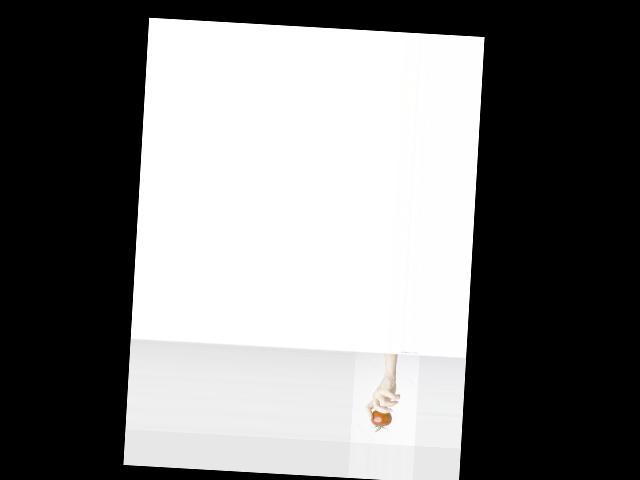tomato: (370, 410, 392, 433)
